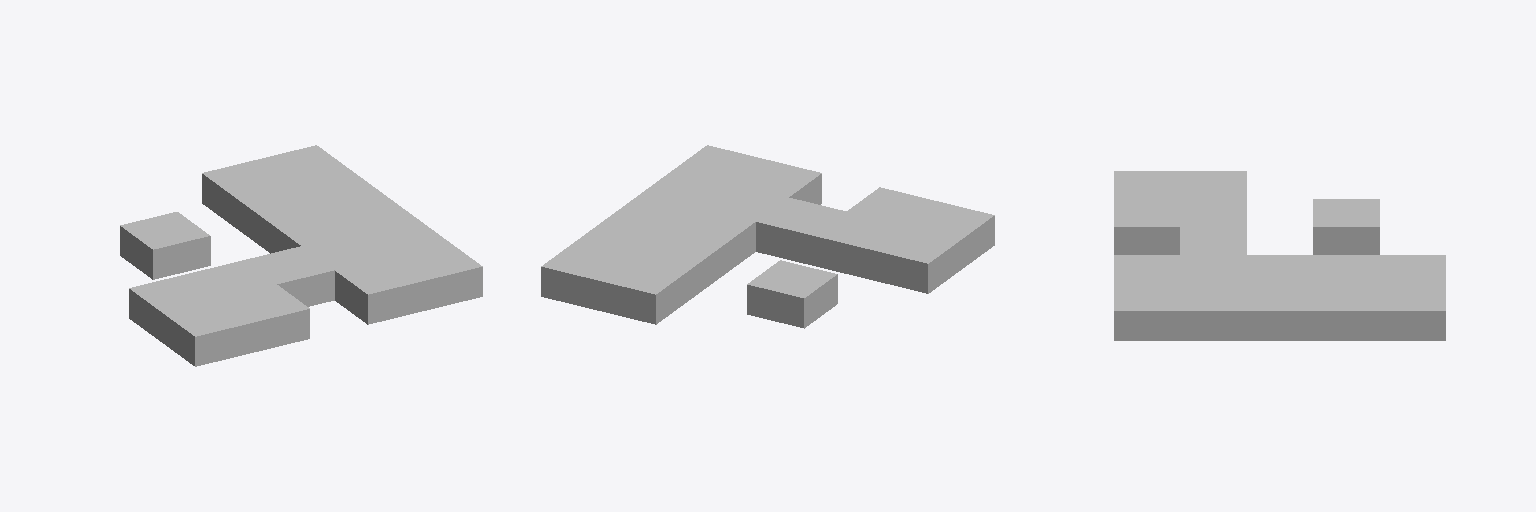
File: 36f_block.obj
3 renders of one model, left to right at view 1: azimuth 30°, elevation 25°; view 2: azimuth 150°, elevation 25°; view 3: azimuth 270°, elevation 25°, orthographic.
Parts seen in each view (by area): view 1: foil.block.1.3_block.3762, foil.block.0.0_block.3758, foil.block.3.0_block.3765, foil.block.4.0_block.3770, foil.block.1.0_block.3760, foil.block.2.1_block.3764, foil.block.3.4_block.3769, foil.block.3.3_block.3768, foil.block.0.1_block.3759, foil.block.3.2_block.3767, foil.block.4.3_block.3773, foil.block.1.1_block.3761 (+4 smaller); view 2: foil.block.0.1_block.3759, foil.block.1.3_block.3762, foil.block.3.4_block.3769, foil.block.4.4_block.3774, foil.block.1.1_block.3761, foil.block.2.1_block.3764, foil.block.3.3_block.3768, foil.block.0.0_block.3758, foil.block.3.2_block.3767, foil.block.3.0_block.3765, foil.block.4.1_block.3771, foil.block.4.3_block.3773 (+4 smaller); view 3: foil.block.4.1_block.3771, foil.block.4.3_block.3773, foil.block.4.0_block.3770, foil.block.4.2_block.3772, foil.block.4.4_block.3774, foil.block.1.3_block.3762, foil.block.1.0_block.3760, foil.block.0.1_block.3759, foil.block.1.1_block.3761, foil.block.2.1_block.3764, foil.block.3.1_block.3766, foil.block.3.3_block.3768 (+4 smaller).
Part boxes in pixels (bbox=[...]): foil.block.1.3_block.3762: bbox=[120, 212, 210, 279]; foil.block.0.0_block.3758: bbox=[162, 298, 252, 366]; foil.block.3.0_block.3765: bbox=[335, 257, 424, 324]; foil.block.4.0_block.3770: bbox=[392, 242, 482, 310]; foil.block.1.0_block.3760: bbox=[220, 285, 309, 352]; foil.block.2.1_block.3764: bbox=[244, 246, 334, 306]; foil.block.3.4_block.3769: bbox=[202, 159, 291, 226]; foil.block.3.3_block.3768: bbox=[235, 183, 324, 250]; foil.block.0.1_block.3759: bbox=[129, 274, 218, 341]; foil.block.3.2_block.3767: bbox=[268, 208, 357, 253]; foil.block.4.3_block.3773: bbox=[293, 169, 382, 207]; foil.block.1.1_block.3761: bbox=[187, 260, 276, 297]; foil.block.0.1_block.3759: bbox=[871, 226, 961, 293]; foil.block.1.3_block.3762: bbox=[747, 260, 837, 328]; foil.block.3.4_block.3769: bbox=[599, 257, 688, 324]; foil.block.4.4_block.3774: bbox=[541, 242, 631, 310]; foil.block.1.1_block.3761: bbox=[813, 212, 903, 279]; foil.block.2.1_block.3764: bbox=[756, 198, 846, 265]; foil.block.3.3_block.3768: bbox=[632, 232, 722, 299]; foil.block.0.0_block.3758: bbox=[904, 201, 994, 268]; foil.block.3.2_block.3767: bbox=[666, 208, 755, 275]; foil.block.3.0_block.3765: bbox=[732, 159, 821, 204]; foil.block.4.1_block.3771: bbox=[641, 169, 730, 207]; foil.block.4.3_block.3773: bbox=[575, 218, 663, 255]; foil.block.4.1_block.3771: bbox=[1180, 283, 1246, 340]; foil.block.4.3_block.3773: bbox=[1313, 283, 1379, 340]; foil.block.4.0_block.3770: bbox=[1114, 283, 1179, 340]; foil.block.4.2_block.3772: bbox=[1247, 283, 1312, 340]; foil.block.4.4_block.3774: bbox=[1380, 283, 1445, 340]; foil.block.1.3_block.3762: bbox=[1313, 199, 1379, 254]; foil.block.1.0_block.3760: bbox=[1114, 199, 1179, 254]; foil.block.0.1_block.3759: bbox=[1180, 171, 1246, 198]; foil.block.1.1_block.3761: bbox=[1180, 199, 1246, 226]; foil.block.2.1_block.3764: bbox=[1180, 227, 1246, 254]; foil.block.3.1_block.3766: bbox=[1180, 255, 1246, 282]; foil.block.3.3_block.3768: bbox=[1313, 255, 1379, 282].
Size of the model in its own units: 10 by 1 by 10.